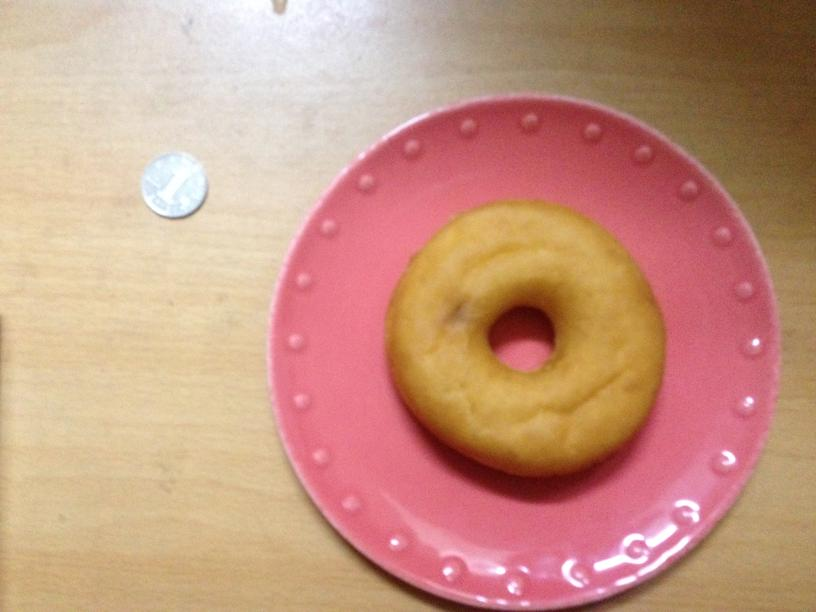coin: (139, 152, 207, 217)
doughnut: (385, 203, 666, 476)
